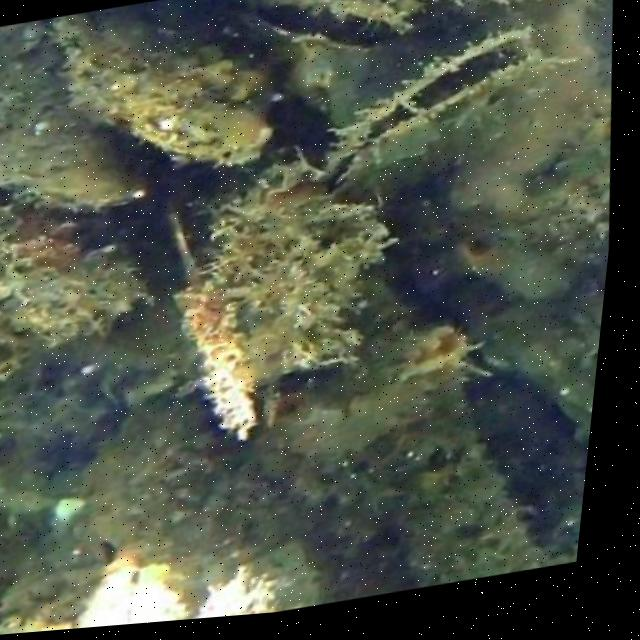Oyster-Indeterminate: (58, 11, 280, 166), (0, 18, 149, 220), (0, 211, 147, 345)
Oyster-Open: (311, 27, 562, 205), (177, 0, 404, 48)
